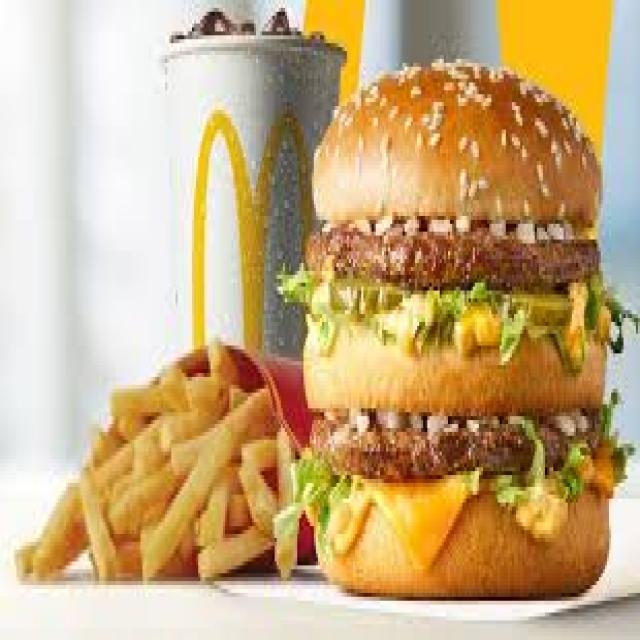햄버거: (307, 86, 613, 606)
